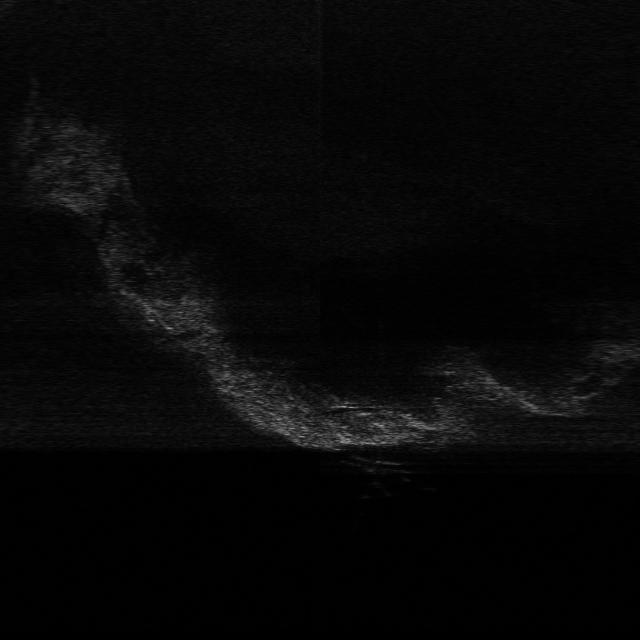plane: (339, 450, 418, 477)
